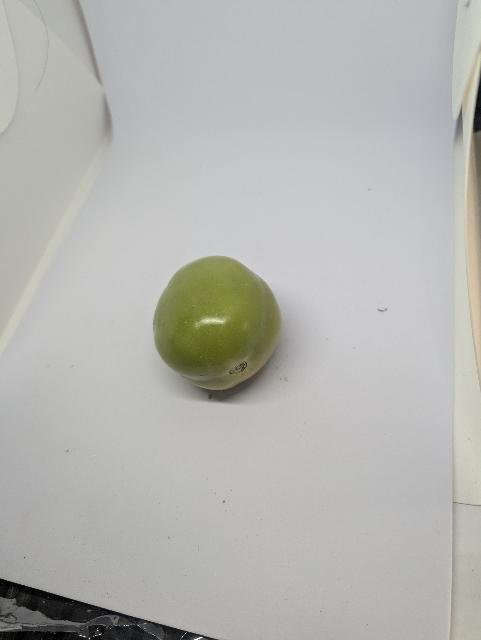green: (152, 254, 284, 392)
